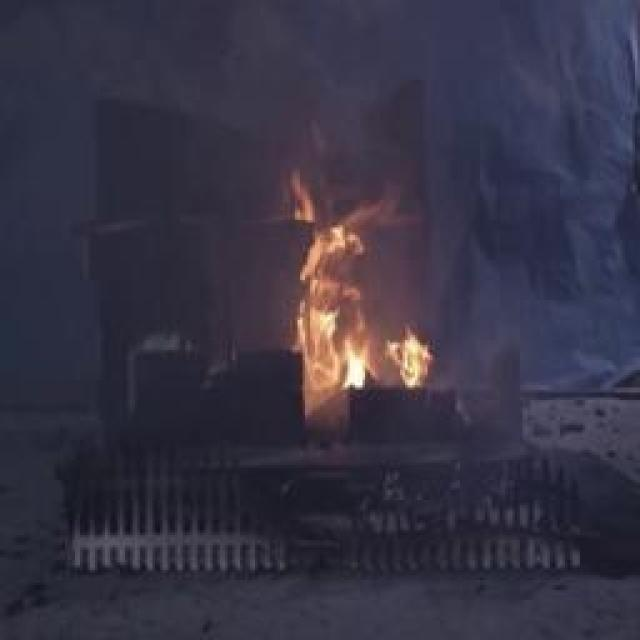fire: (280, 182, 438, 400)
